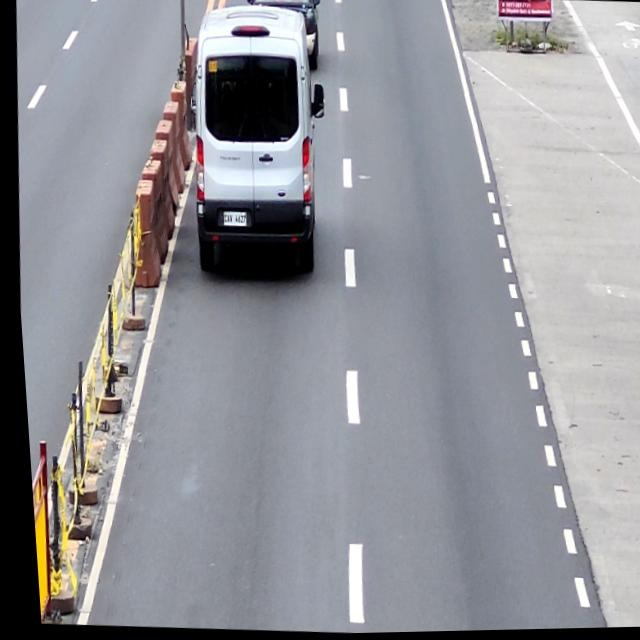Car: (176, 4, 337, 283), (243, 0, 325, 74)
License-Plate: (219, 212, 246, 229)
